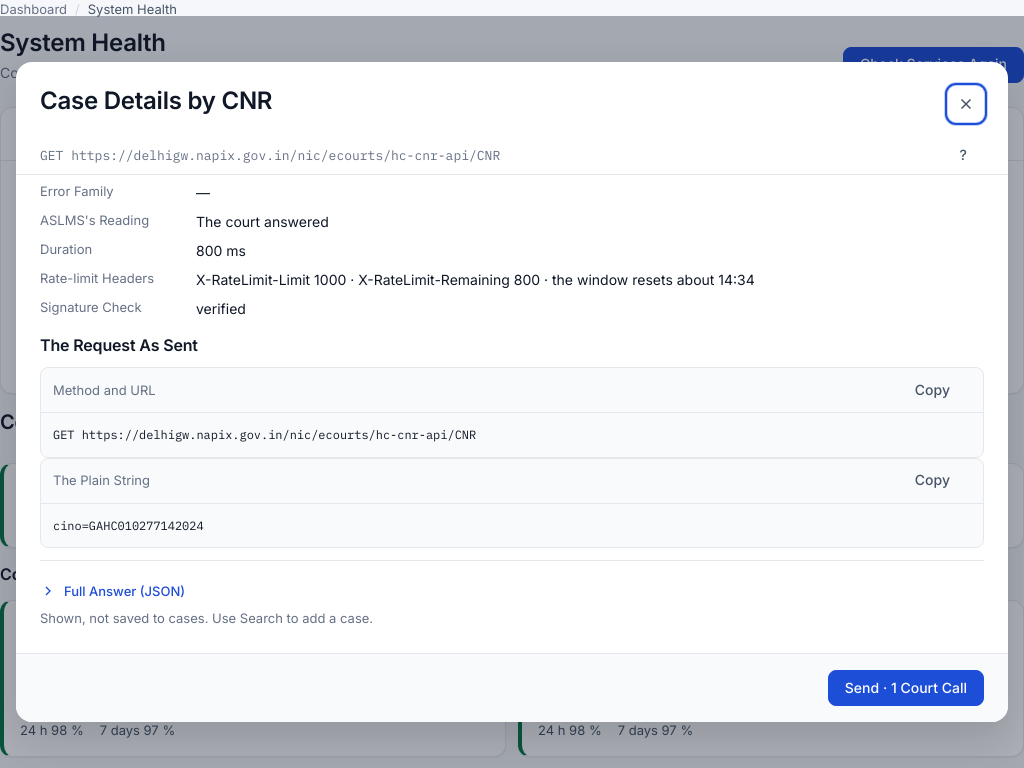
it: Send and the Response tab › without cases.view_all the full answer section says it is shown only to users who can see every case
This screenshot has width=1024, height=768.
(page scrolled)
Click the button "Full Answer (JSON)".
click(113, 591)  # box [40,573,185,609]
(page scrolled)
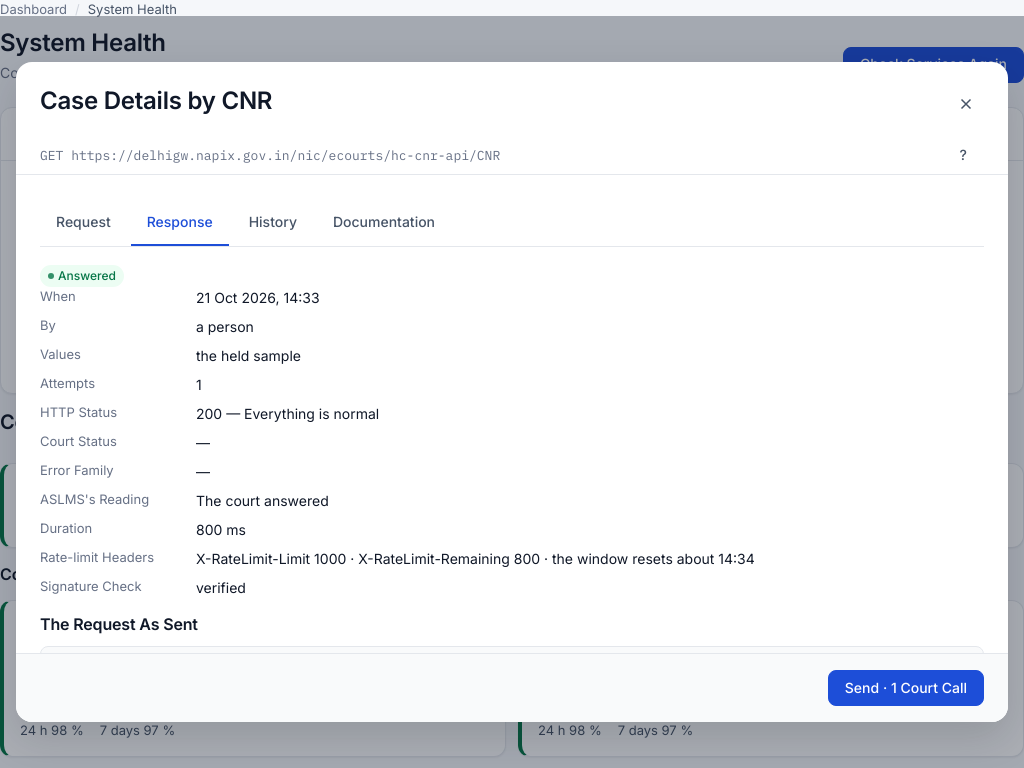
Click the tab "Request".
click(83, 222)  # box [40,199,127,246]
(page scrolled)
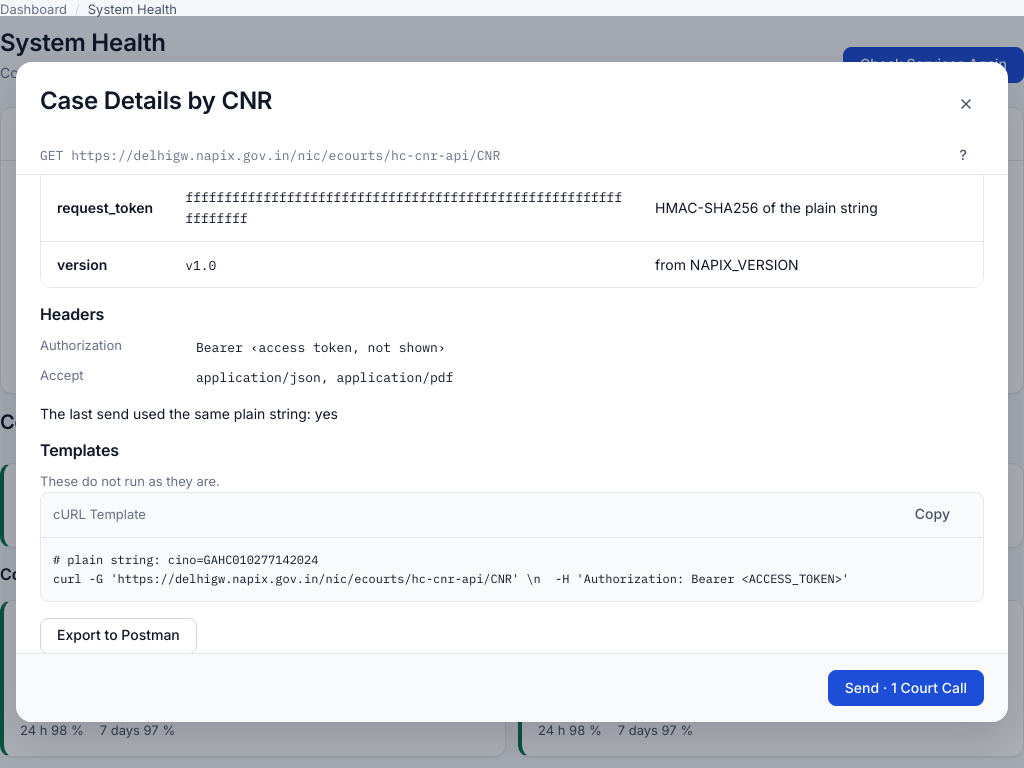
Expected: the text "The last send used the same plain string: yes" is shown, [40,405,338,422]
